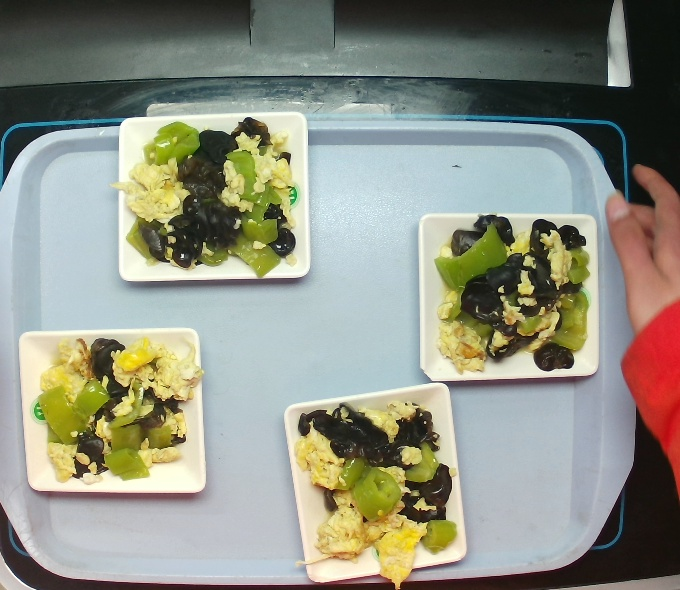wcq-MuErDanHuang: (417, 202, 604, 381), (300, 403, 454, 574), (39, 333, 194, 496), (131, 120, 295, 272)
